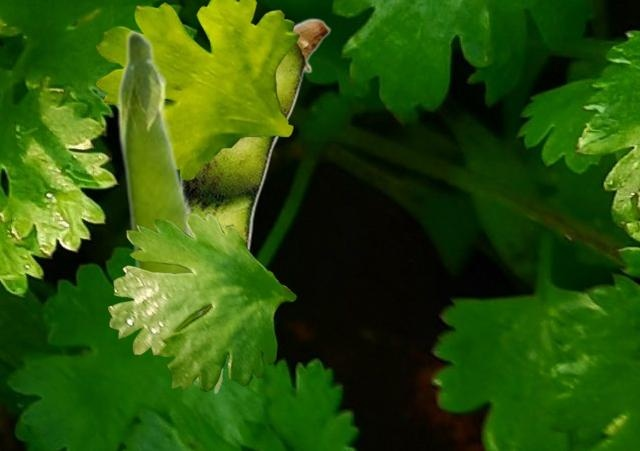pea: (182, 17, 330, 393), (116, 28, 198, 386)
